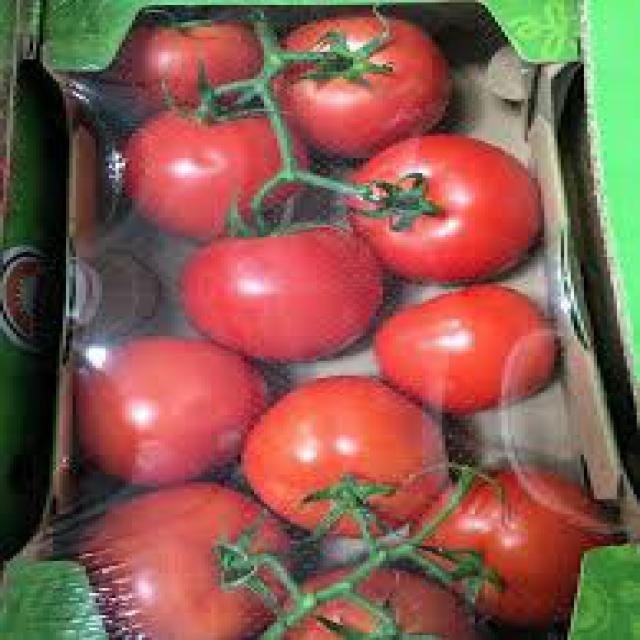tomato: (76, 482, 307, 637), (241, 378, 448, 541), (426, 467, 630, 625), (346, 134, 544, 286), (76, 339, 270, 489), (181, 228, 386, 364), (267, 17, 452, 156), (370, 286, 558, 418), (125, 111, 287, 245), (109, 15, 264, 111), (284, 571, 485, 637)
